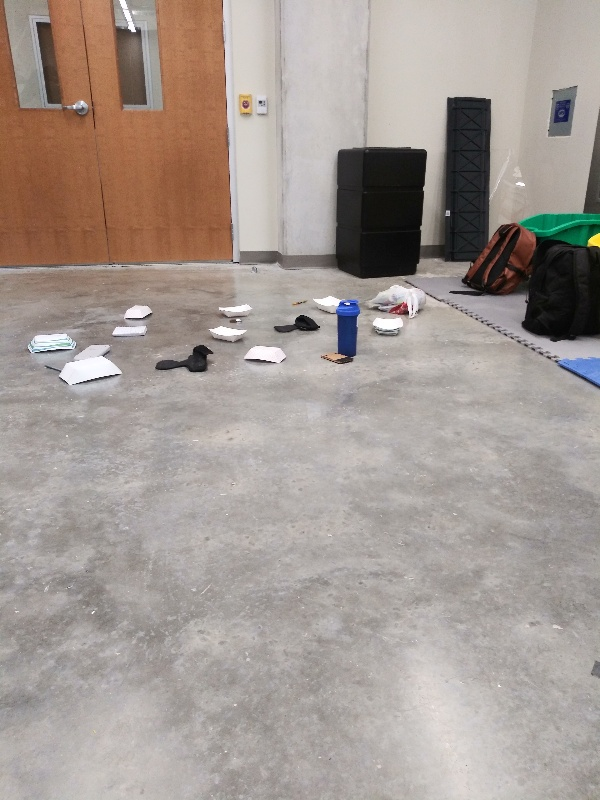plate: (57, 354, 125, 389), (25, 330, 79, 359), (243, 341, 291, 364), (206, 321, 252, 344), (368, 312, 410, 337), (309, 292, 345, 317), (216, 299, 256, 319), (119, 301, 155, 322)
